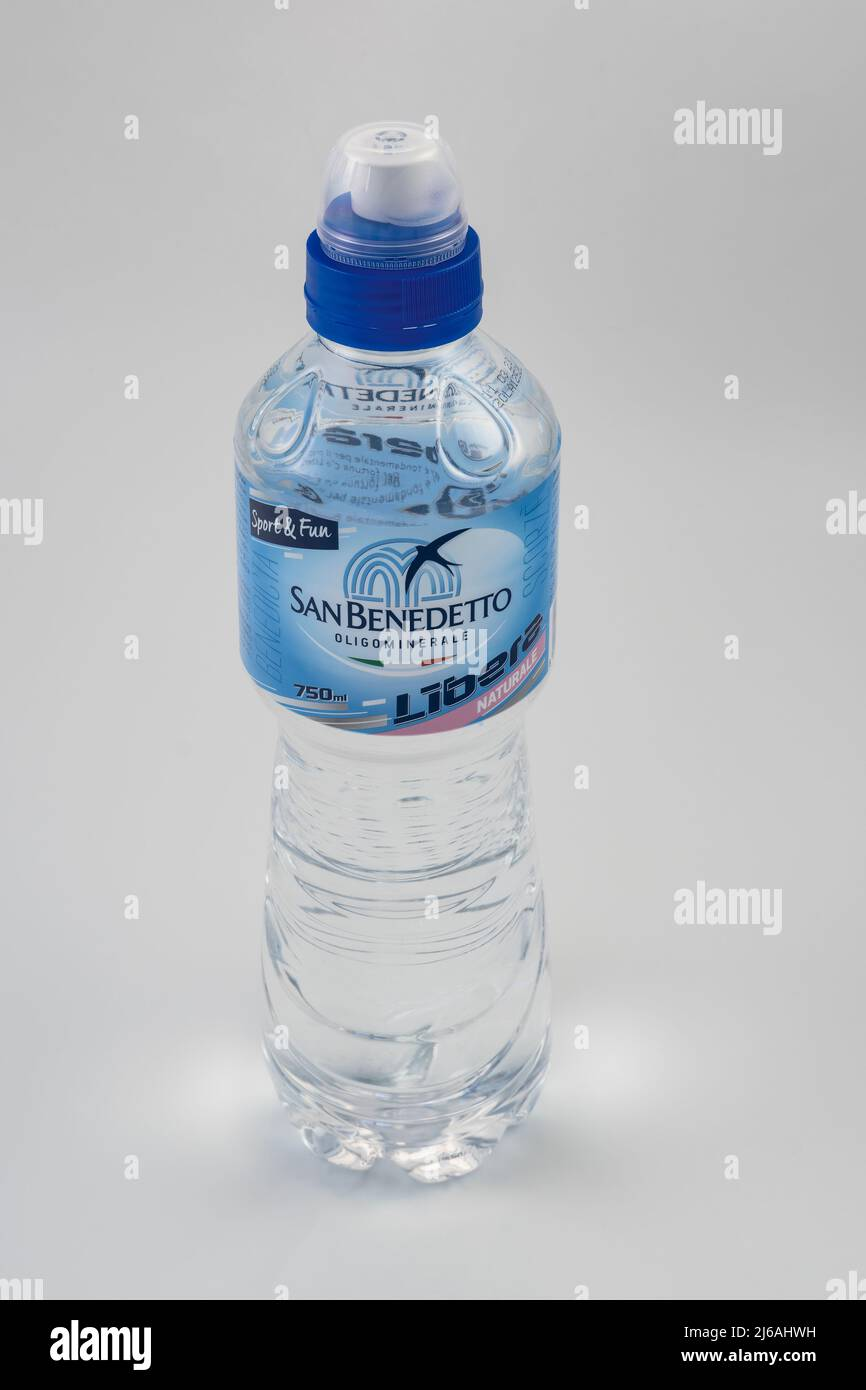PlasticBottle: (224, 88, 570, 1190)
